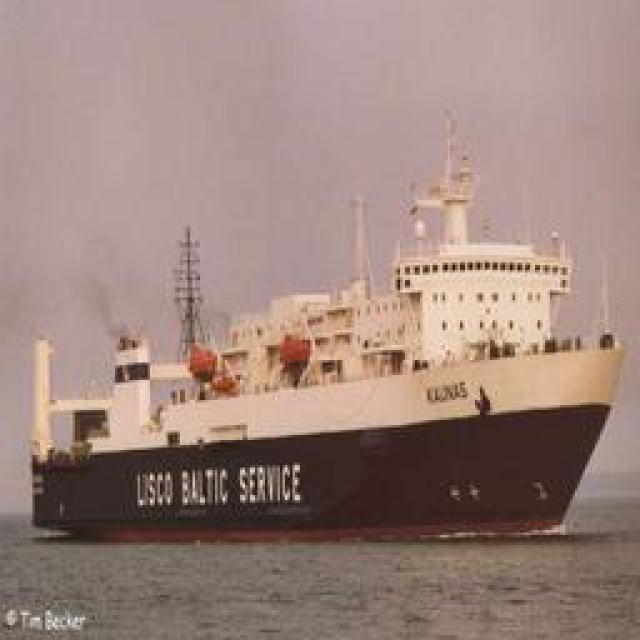Ship: (18, 106, 631, 549)
